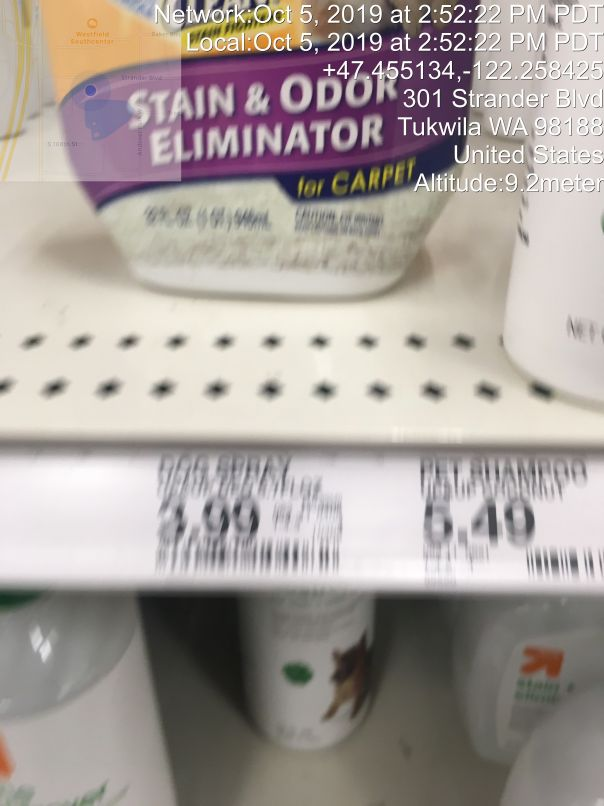Dog spray: (38, 3, 466, 314)
Label: (148, 446, 354, 581)
Location: (388, 82, 604, 170)
Time: (146, 1, 604, 55)
